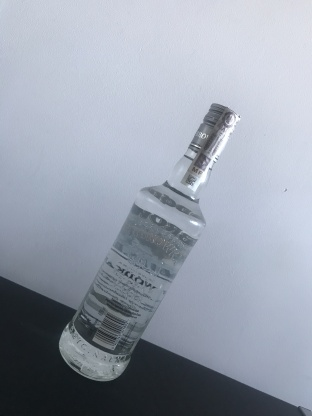nakretka: (186, 100, 242, 165)
